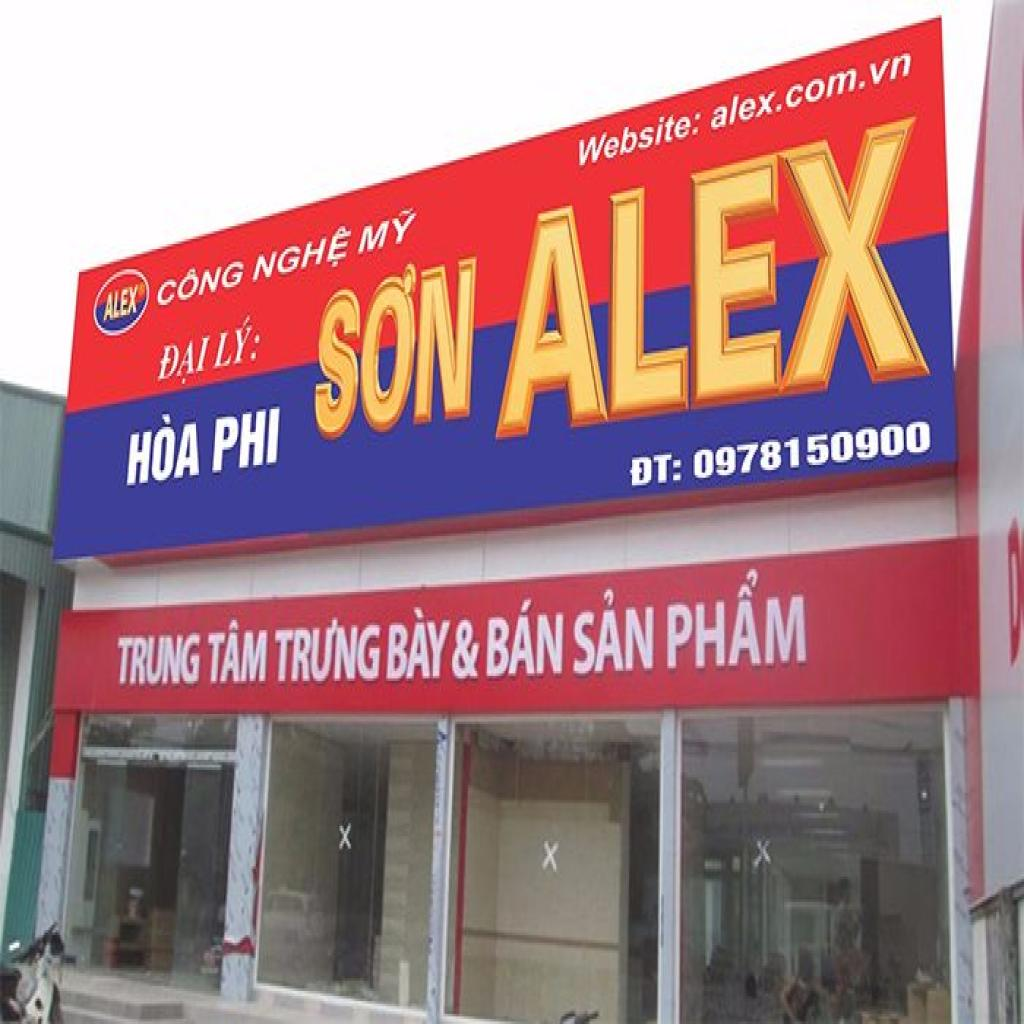text: (492, 107, 934, 447), (307, 252, 481, 444), (708, 48, 917, 135), (692, 417, 935, 485), (666, 564, 809, 676), (575, 102, 706, 172), (570, 587, 660, 681), (248, 221, 356, 295), (274, 618, 383, 688), (124, 409, 208, 496), (486, 602, 568, 686), (155, 254, 250, 313), (384, 607, 454, 686), (210, 407, 284, 480), (117, 630, 203, 691), (208, 620, 272, 691), (155, 333, 217, 394), (356, 206, 422, 262), (211, 313, 266, 376), (449, 612, 484, 686), (626, 450, 685, 490), (101, 282, 142, 325)
